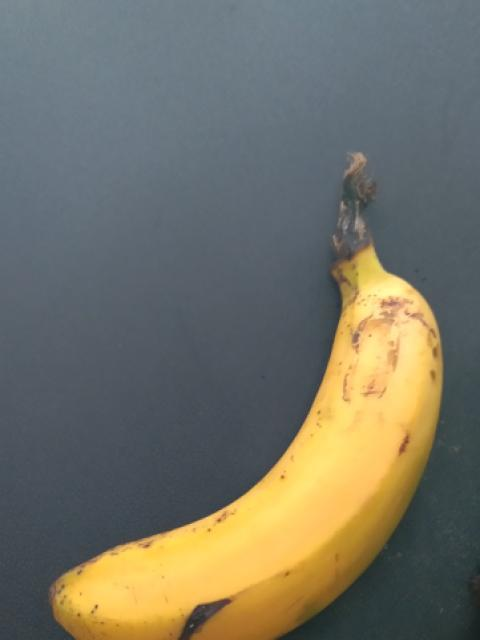ripe: (49, 250, 459, 639)
